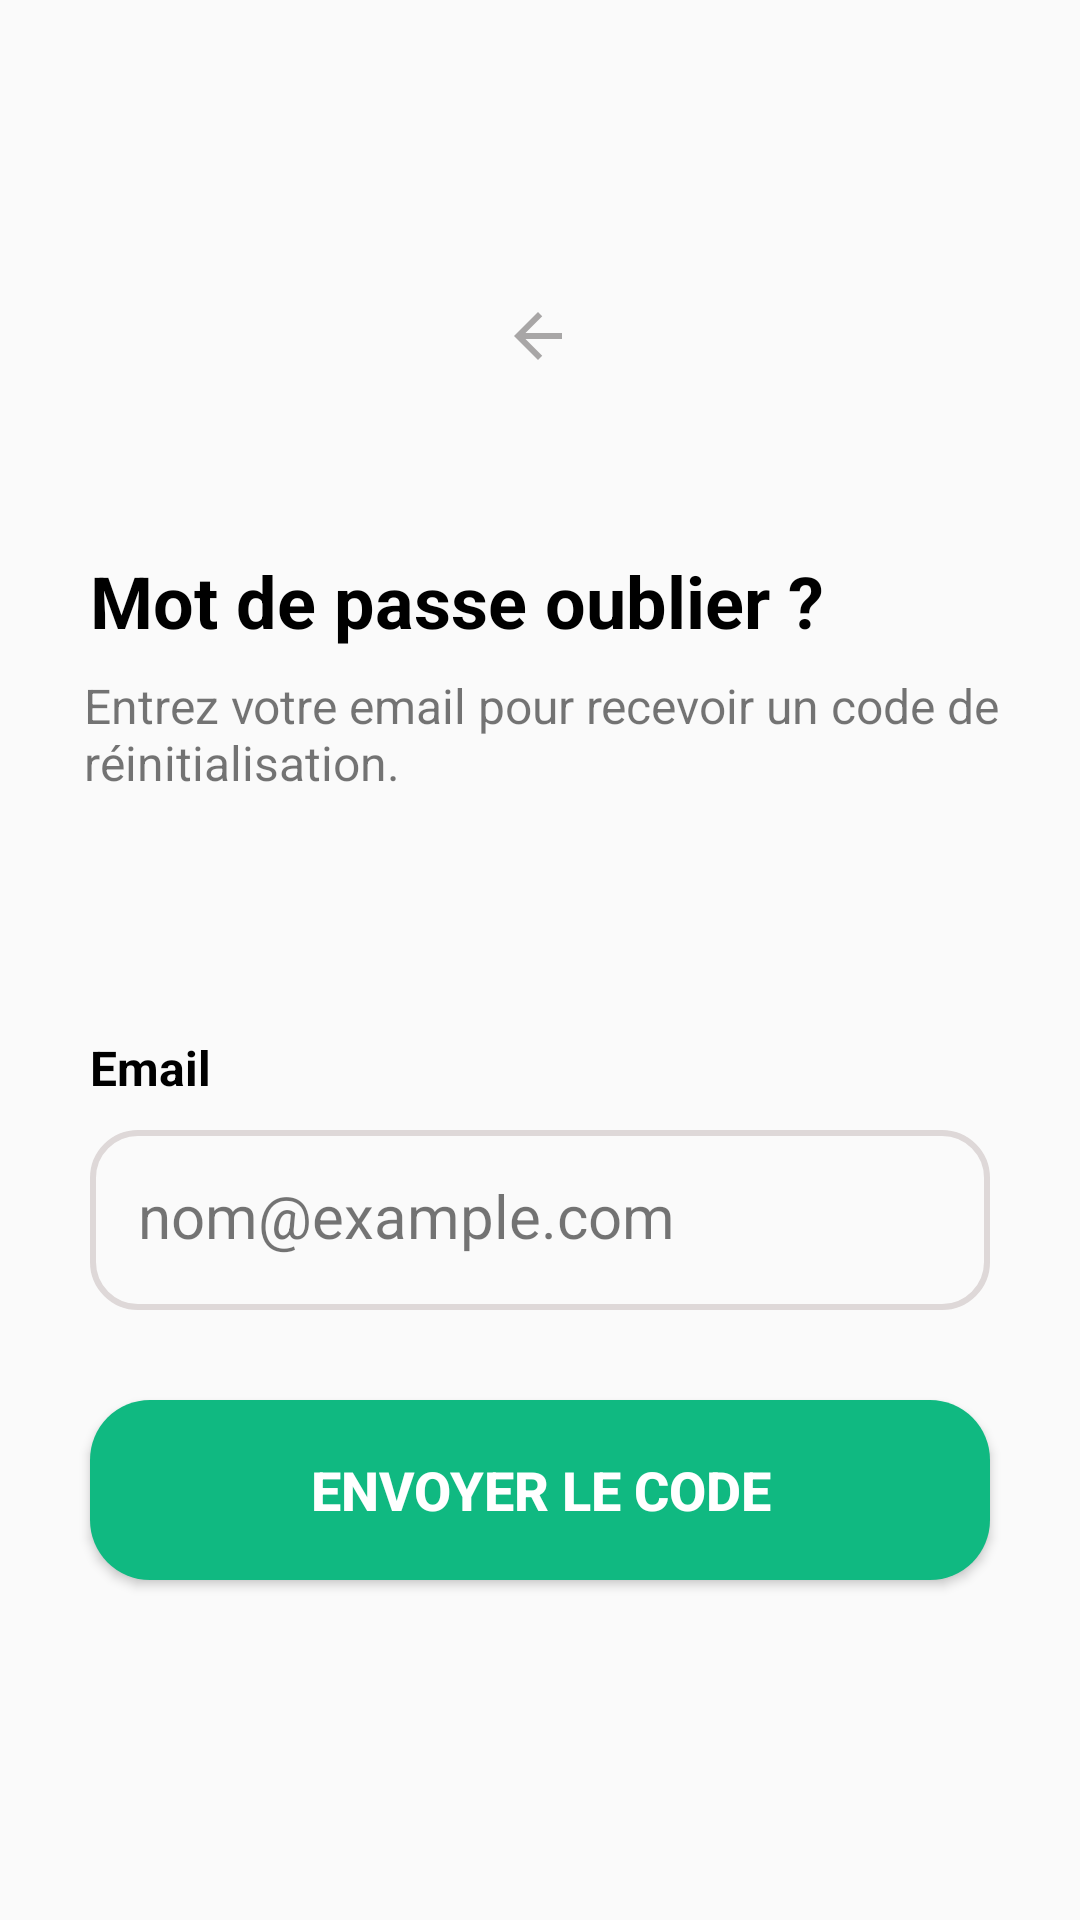

Icons on this 1080x1920 Android screen, each with its box as (x1, y1, x2, y2):
arrow back: (514, 312, 562, 360)
